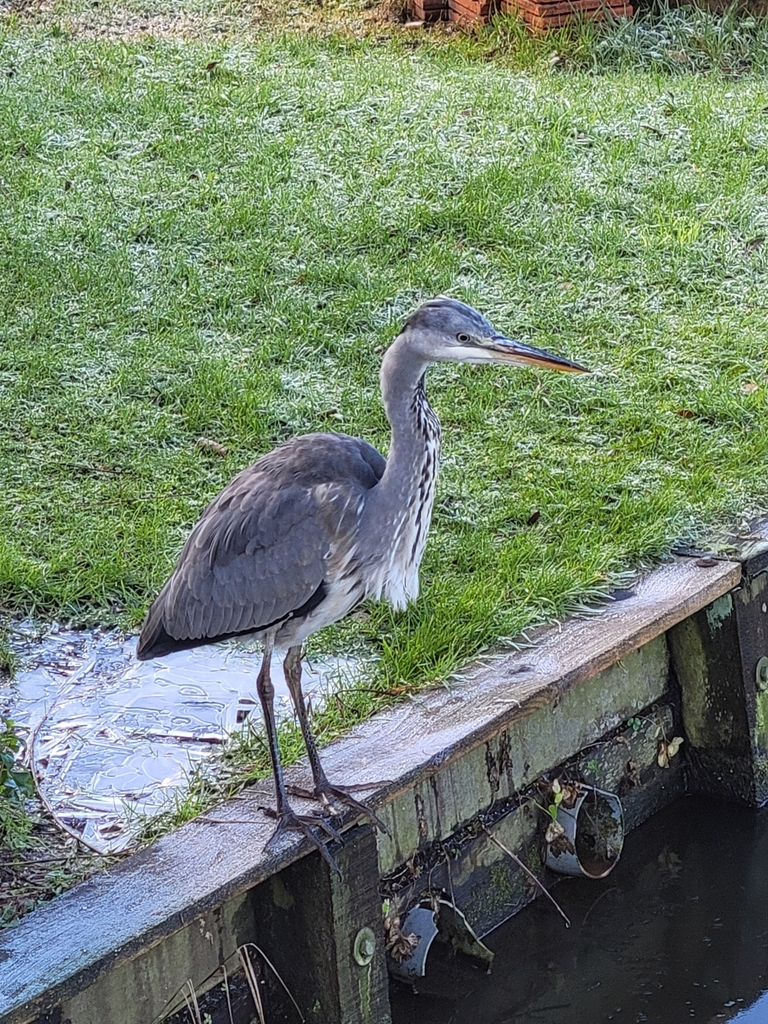heron: (131, 290, 593, 883)
